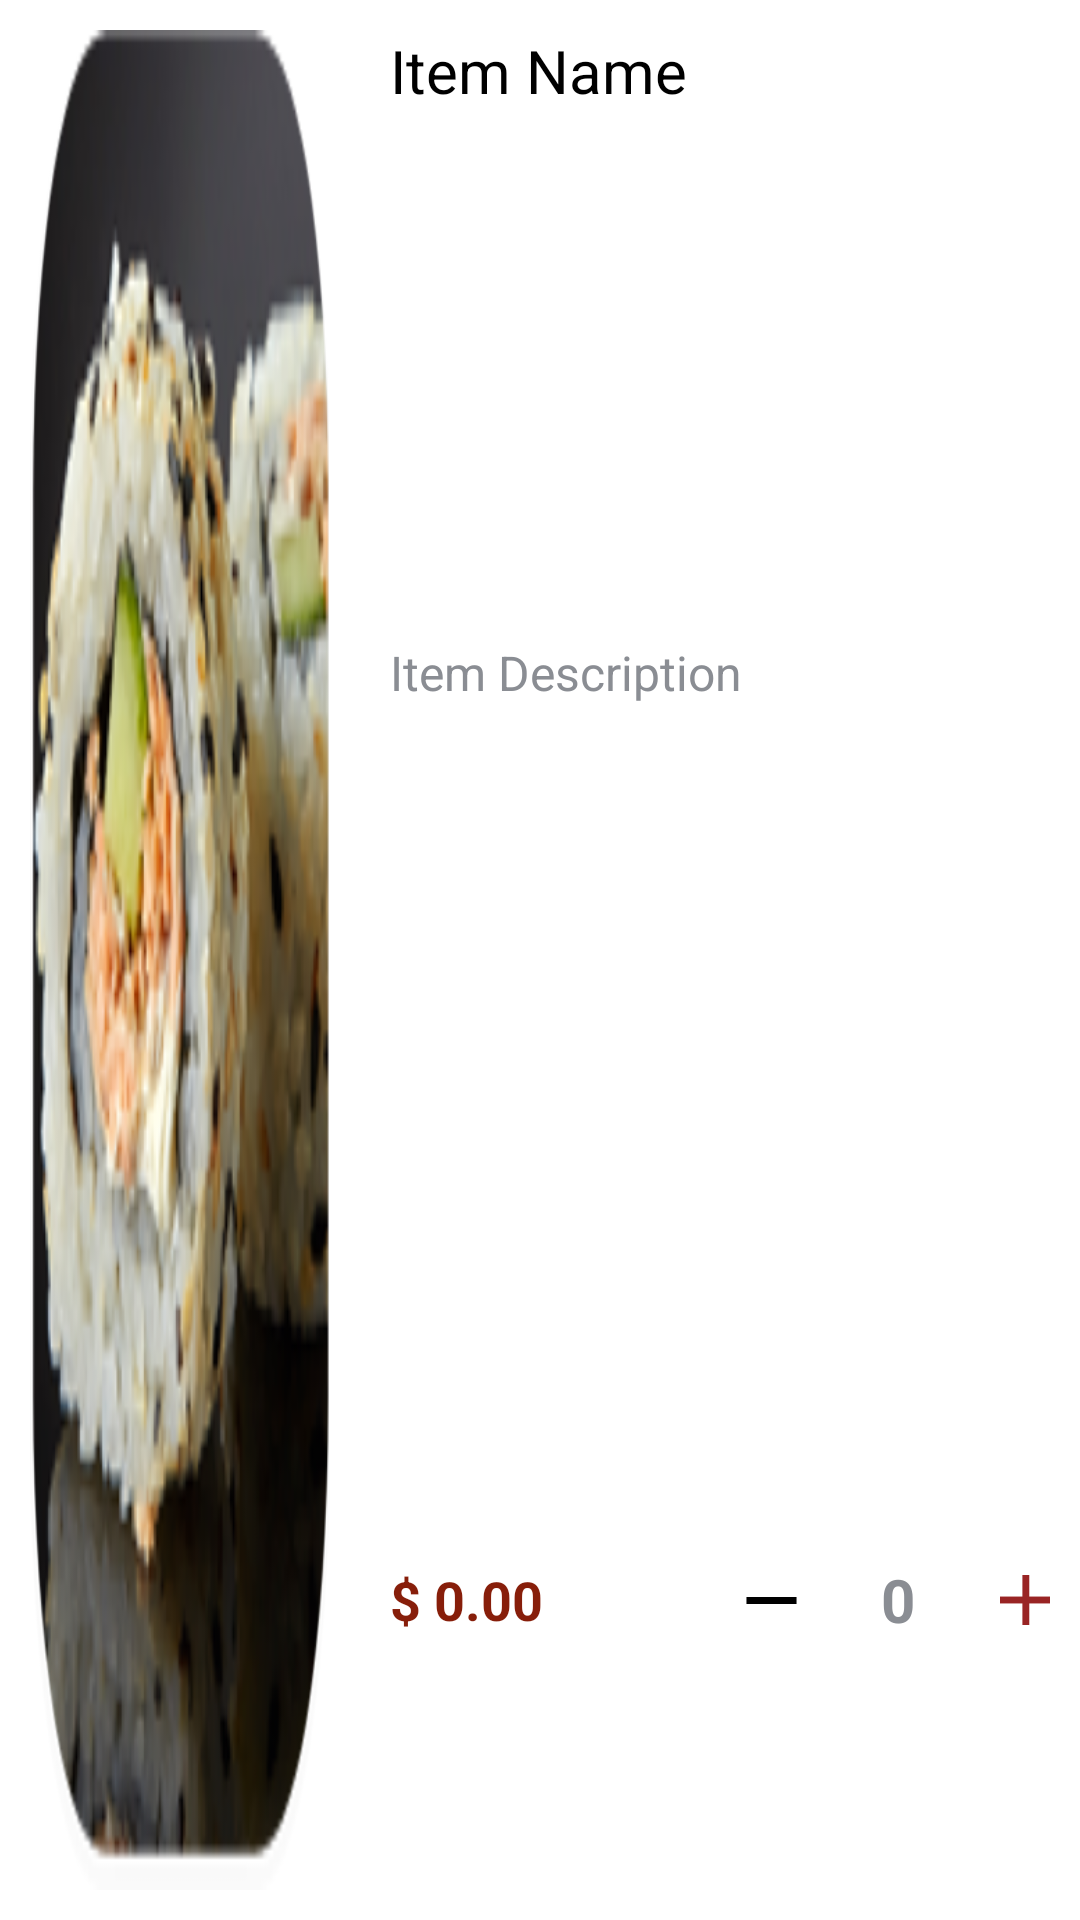

Icons on this 1080x1920 Android screen, each with its box as BBox(x1, y1, x2, y2):
plus: BBox(1000, 1575, 1050, 1625)
